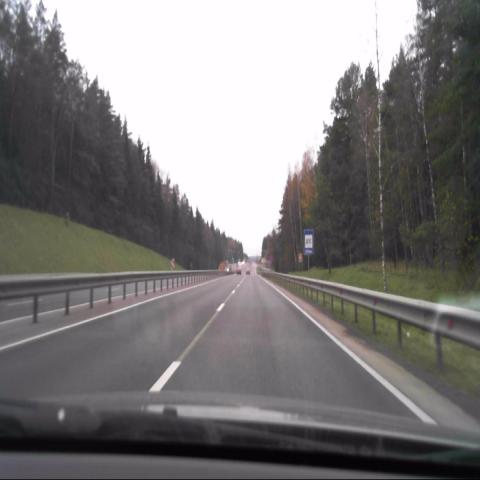7_12: (304, 229, 314, 255)
